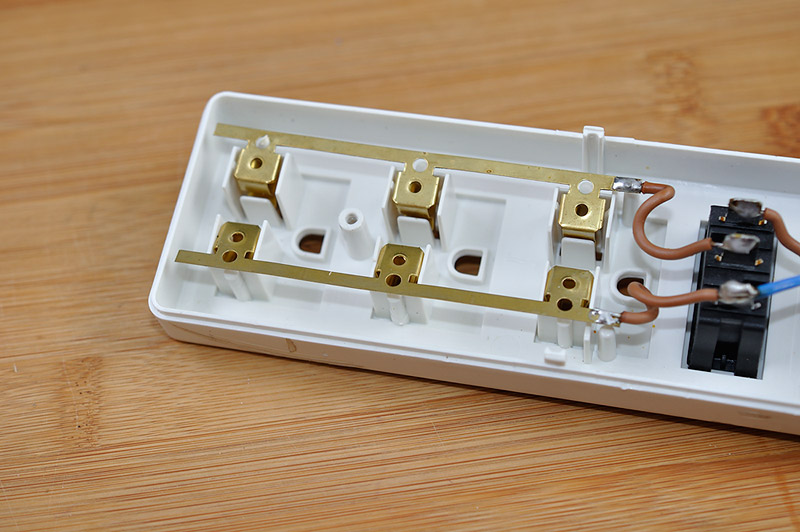Three_eye_plug: (141, 83, 800, 458)
